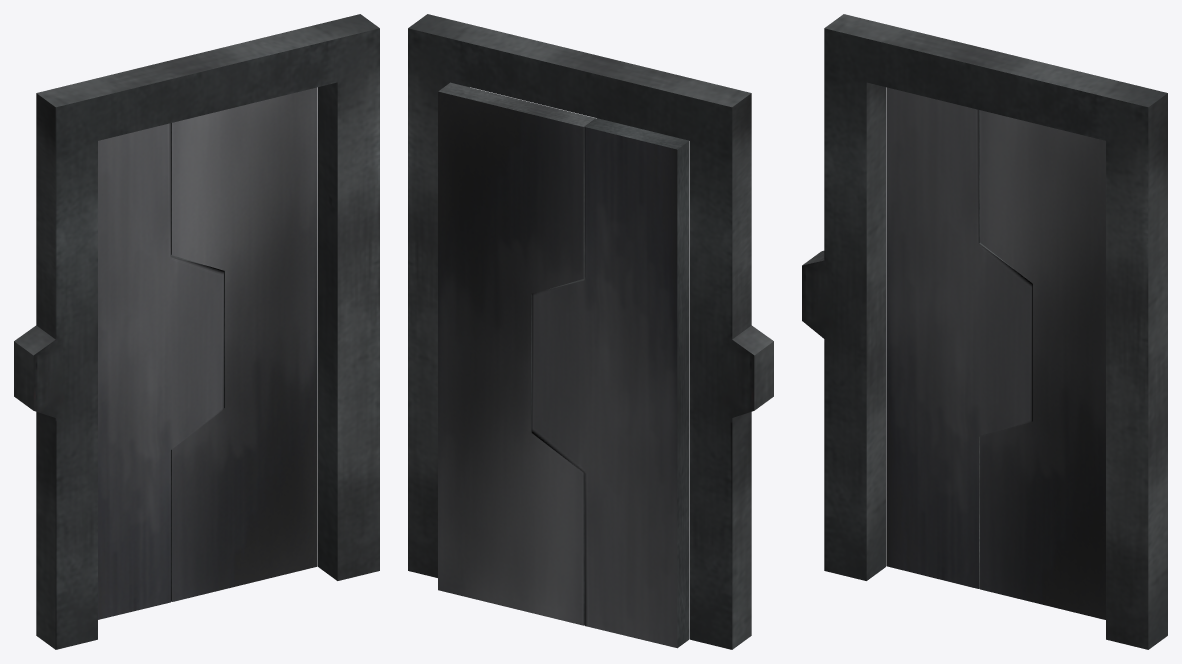
Rendered from door.fbx.
3 views of the same model, side by side, from view 1: azimuth 30°, elevation 25°; view 2: azimuth 150°, elevation 25°; view 3: azimuth 330°, elevation 25° (orthographic).
Visible parts, largest first — view 1: pPlane3, pPlane2, pPlane1; view 2: pPlane3, pPlane2, pPlane1; view 3: pPlane3, pPlane1, pPlane2.
Part boxes in pixels (<box>): pPlane3: <box>14,14,379,649</box>; pPlane2: <box>171,87,317,601</box>; pPlane1: <box>98,123,223,619</box>; pPlane3: <box>408,14,773,649</box>; pPlane2: <box>438,82,595,625</box>; pPlane1: <box>531,118,689,648</box>; pPlane3: <box>802,14,1167,649</box>; pPlane1: <box>886,87,1032,588</box>; pPlane2: <box>980,110,1105,619</box>.
Bounding box in the file's own units: 26.33 × 39.41 × 4.2.
